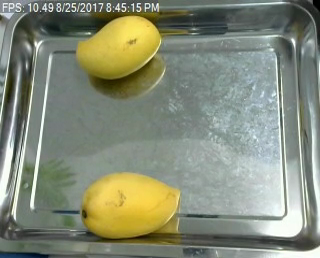Mango: (74, 170, 180, 241), (77, 13, 163, 84)
